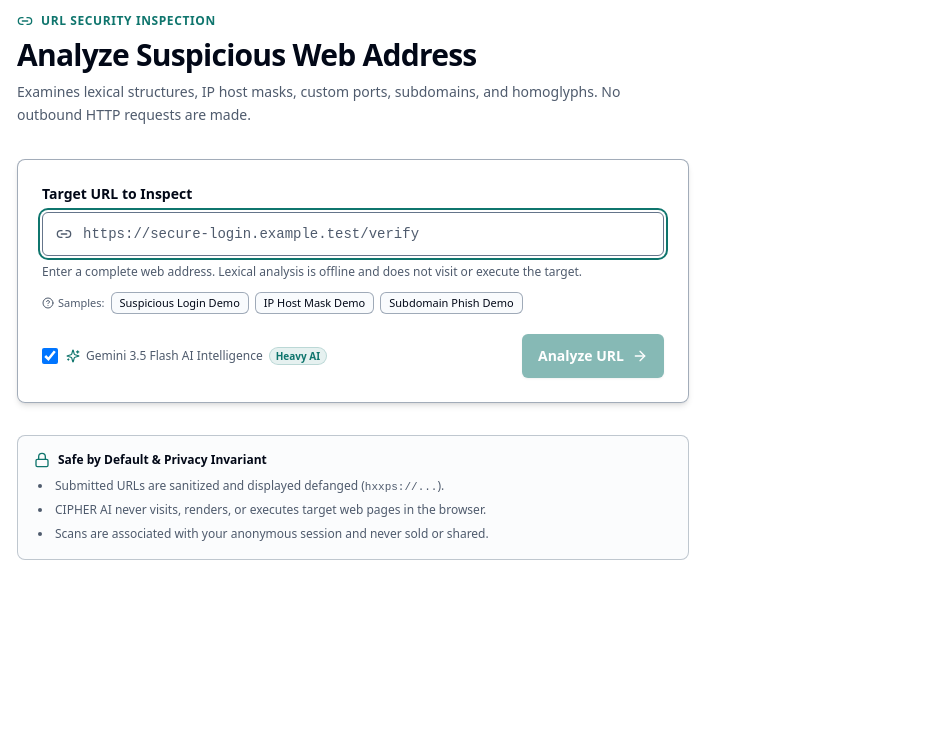
End-to-End Scan Workflows › displays friendly ErrorAlert on 429 rate limit failure
The width and height of the screenshot is (930, 733).
Type "https://example.com/test" into the field labelled "Target URL to Inspect" at (353, 234), box left=42, top=212, right=664, bottom=256
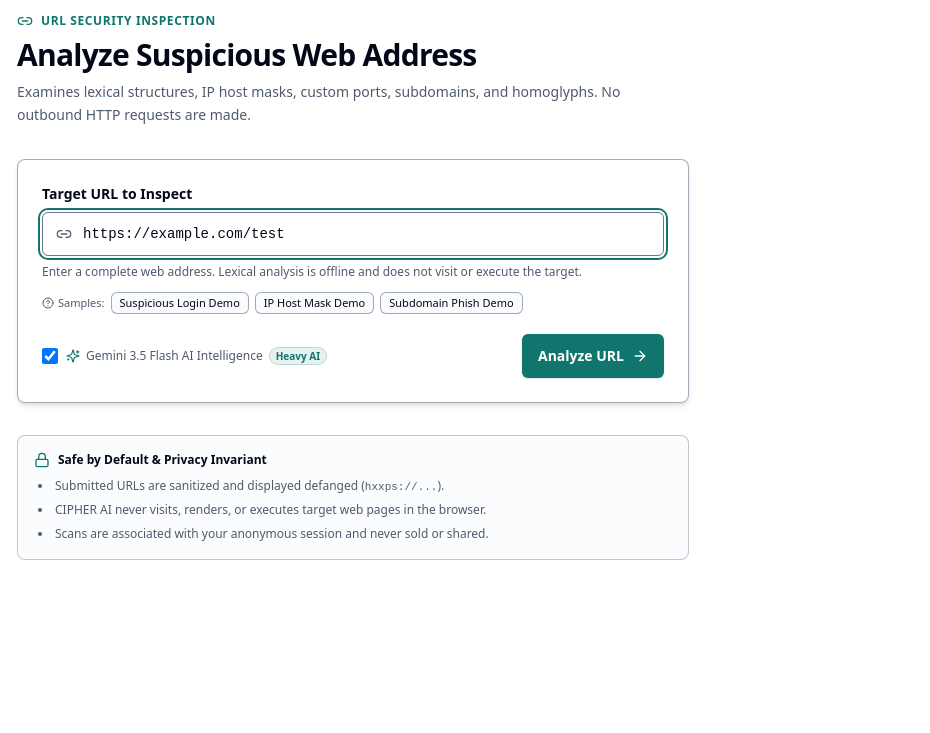
Click the button "Analyze URL" at (593, 356), box left=522, top=334, right=664, bottom=378
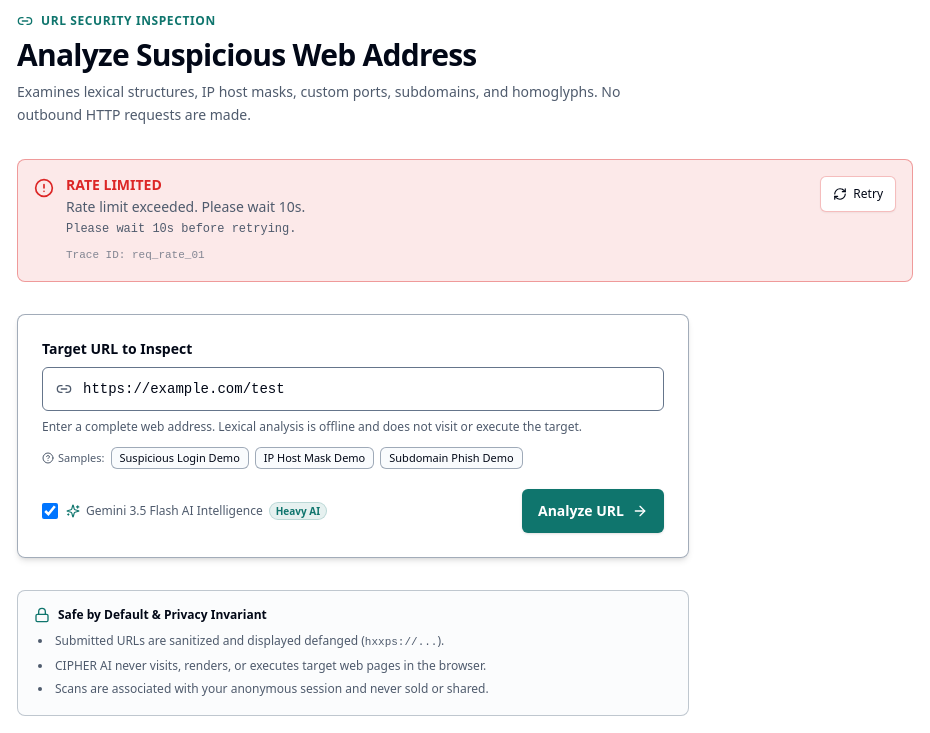
Expected: the message is shown, left=17, top=158, right=913, bottom=282
Expected: the heading "RATE LIMITED" is shown, left=66, top=174, right=162, bottom=194
Expected: the text "Please wait 10s before retrying." is shown, left=66, top=222, right=296, bottom=236
